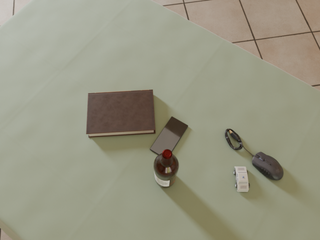book: (86, 90, 155, 137)
bottle: (154, 149, 179, 188)
mouse: (252, 152, 283, 180)
phone: (150, 117, 188, 155)
toy_car: (234, 167, 250, 192)
